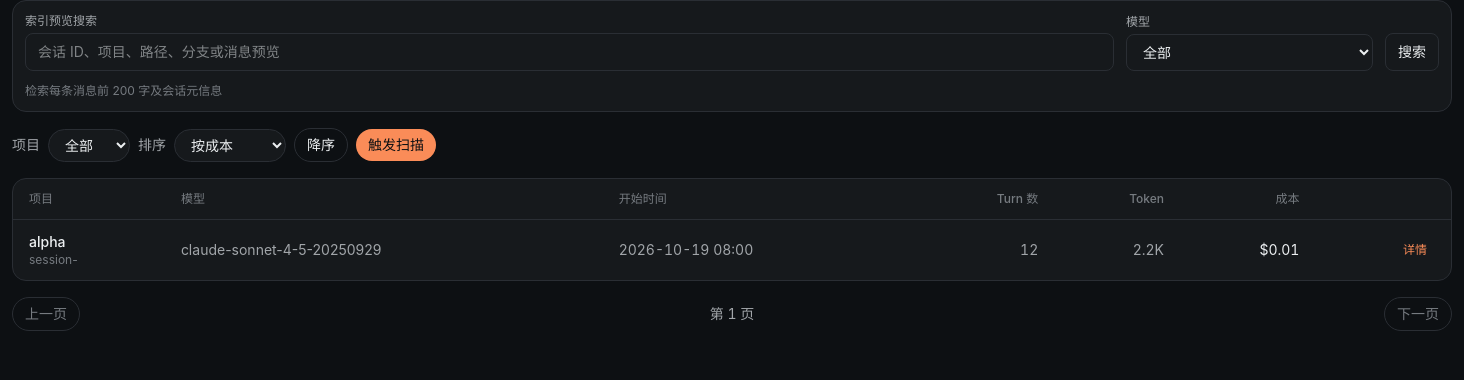
SessionsPage › 扫描失败时把错误显示在按钮旁而不是崩溃
Expected: the number of rows with test id "session-row" is 1, 13,220 -> 1451,280
Step 1. Click the button "触发扫描" → point(396, 145), box 356,129 -> 436,161
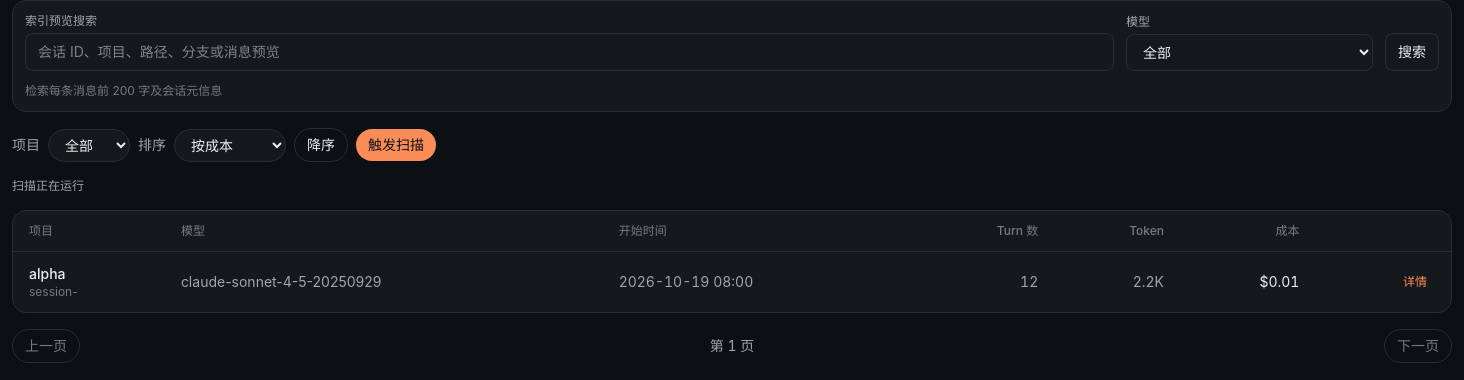
Expected: the number of rows with test id "session-row" is 1, 13,252 -> 1451,312
Now the text "扫描正在运行" is shown, box 12,178 -> 84,193
